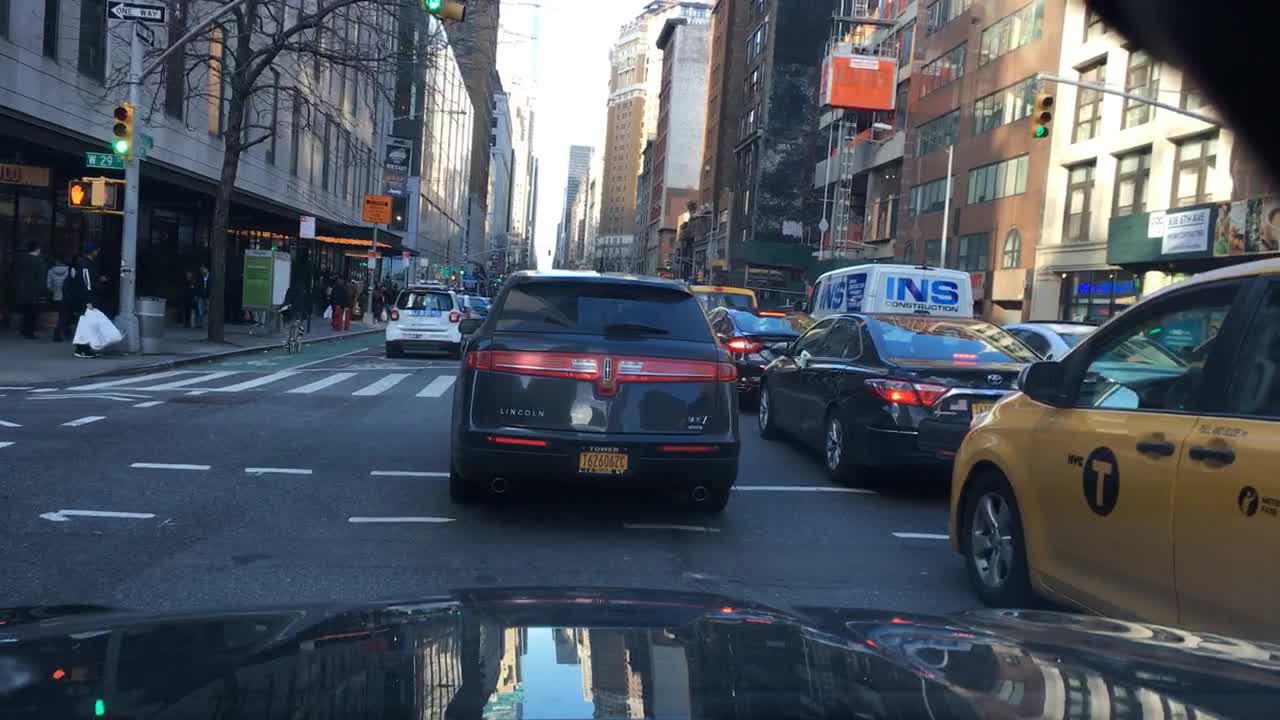bike: (278, 298, 307, 352)
car: (946, 255, 1278, 639), (449, 255, 739, 515), (758, 312, 1044, 483), (1000, 317, 1189, 385), (704, 305, 812, 391), (386, 279, 472, 353), (690, 283, 757, 316), (456, 290, 488, 316)
person: (59, 236, 121, 359), (15, 235, 51, 337), (46, 250, 69, 343), (191, 258, 213, 328), (330, 268, 350, 331), (183, 267, 195, 329), (346, 277, 360, 319), (383, 279, 396, 319), (372, 277, 382, 323), (357, 284, 368, 319), (323, 272, 333, 304), (392, 280, 399, 295)
rider: (276, 274, 316, 320)
traffic light: (1030, 89, 1052, 140), (112, 102, 129, 156), (93, 176, 118, 210), (70, 179, 93, 207), (444, 0, 465, 22), (425, 0, 441, 13), (457, 261, 465, 276), (450, 267, 456, 280)
traffic sign: (107, 2, 164, 21), (364, 194, 391, 224), (86, 149, 126, 168), (134, 17, 157, 47), (301, 214, 315, 238), (140, 128, 152, 149), (136, 143, 148, 163)
truck: (801, 259, 970, 320)
